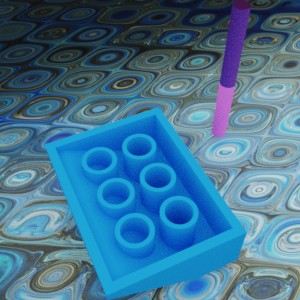lego: (44, 107, 247, 299), (211, 0, 251, 137)
